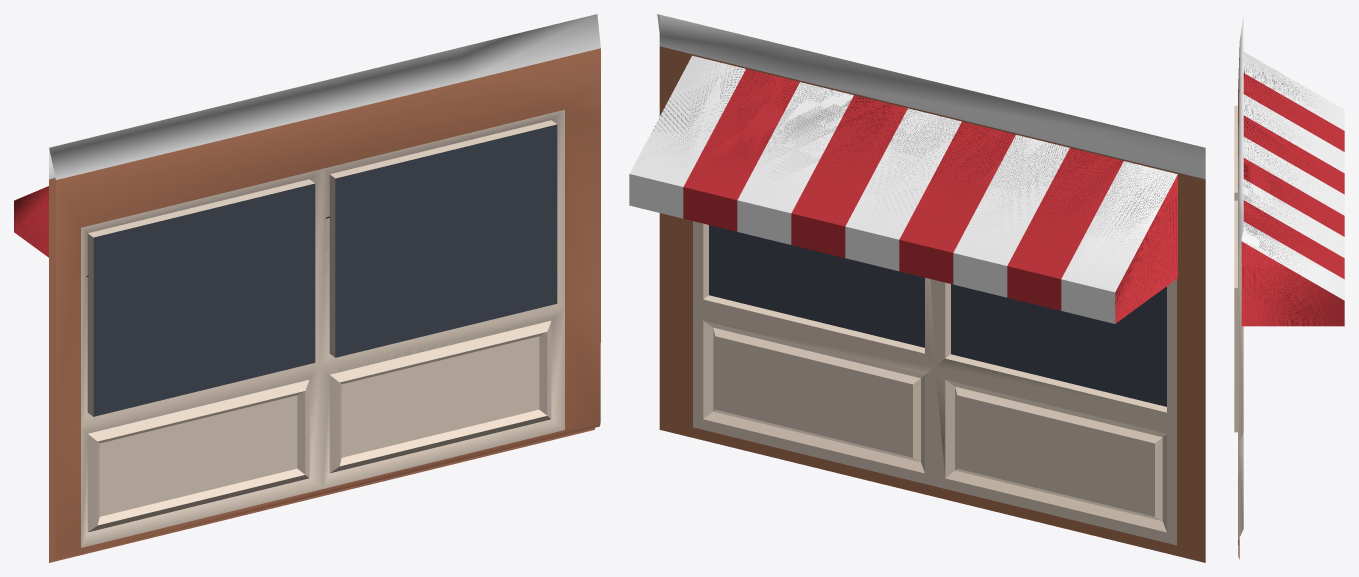
Rendered from wallTile.fbx.
3 renders of one model, left to right at view 1: azimuth 30°, elevation 25°; view 2: azimuth 150°, elevation 25°; view 3: azimuth 270°, elevation 25°, orthographic. The views are drawn at different scales.
Parts seen in each view (by area): view 1: Restaurent main Building; view 2: Restaurent main Building; view 3: Restaurent main Building.
Part boxes in pixels (x1,y1,x2,y2): Restaurent main Building: [14, 14, 600, 562]; Restaurent main Building: [629, 14, 1205, 562]; Restaurent main Building: [1234, 15, 1344, 559].
Bounding box in the file's own units: 1088 × 787 × 236.
